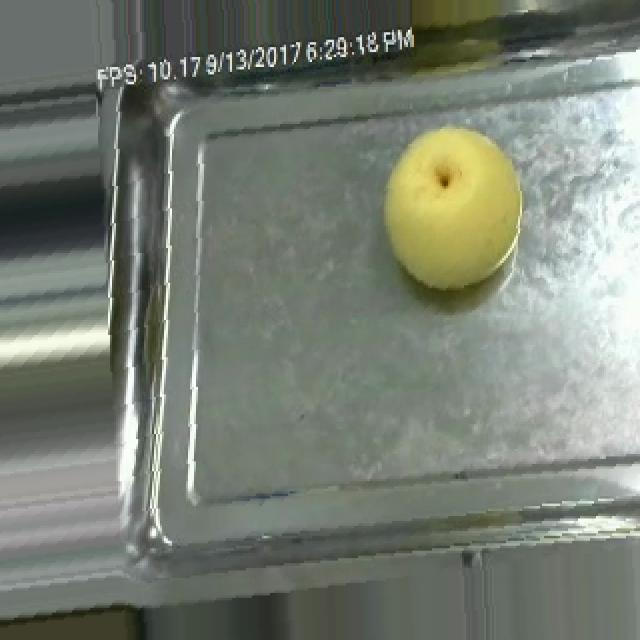Fruit: (372, 112, 534, 300)
